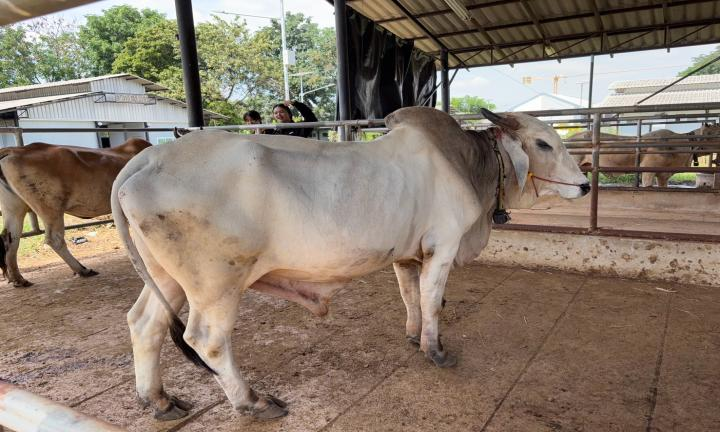Brahman: (112, 107, 588, 419)
